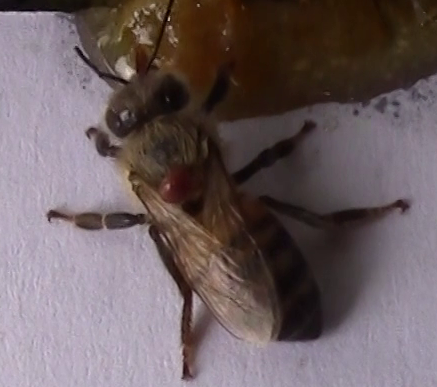Varroa destructor: (155, 160, 200, 205)
